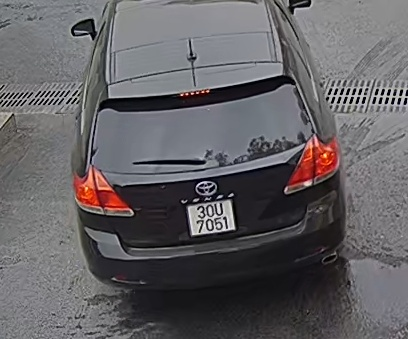vehicle plate: (182, 198, 239, 236)
